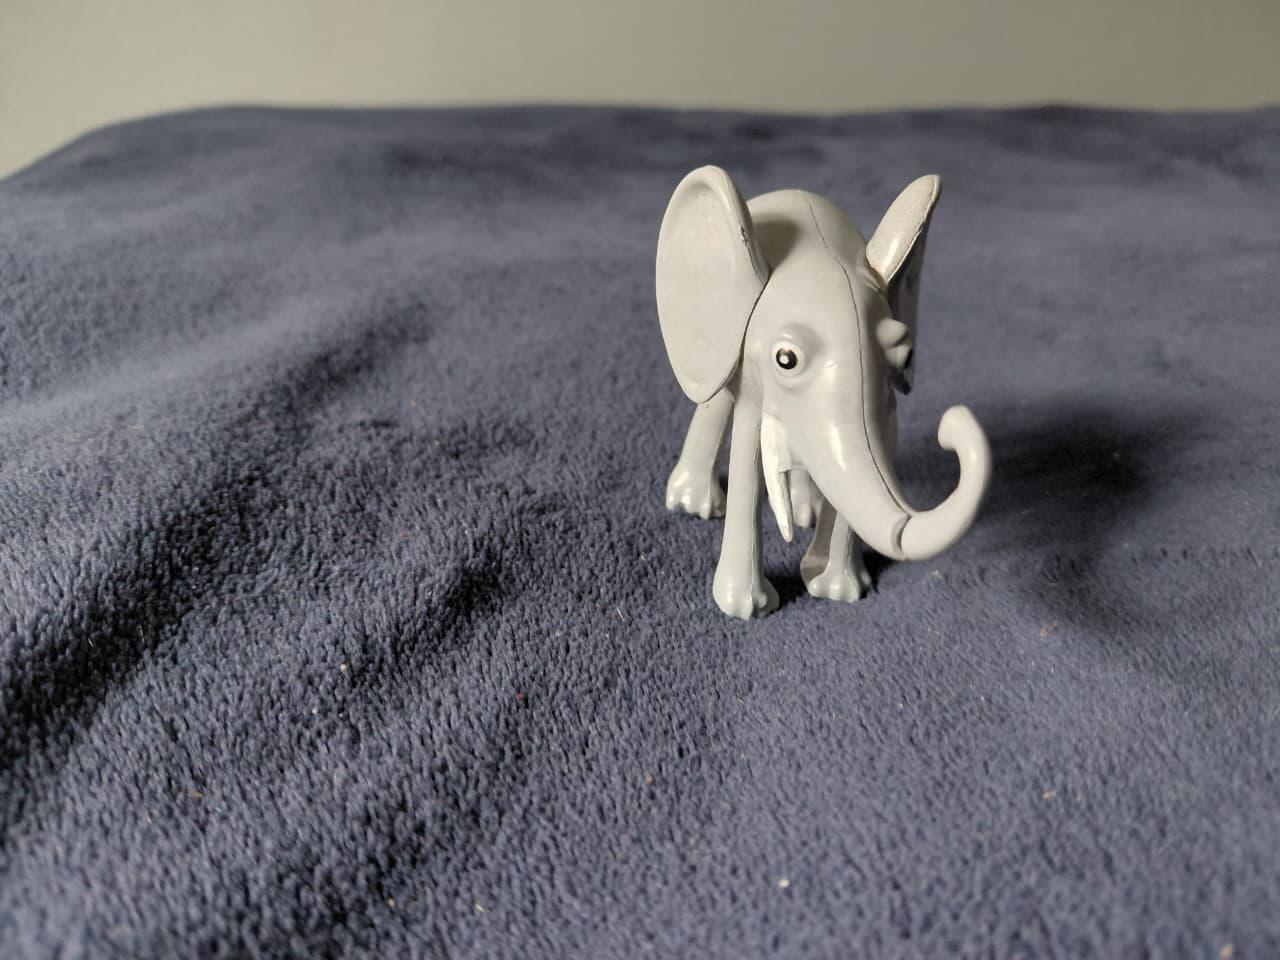elephant: (638, 156, 1008, 618)
